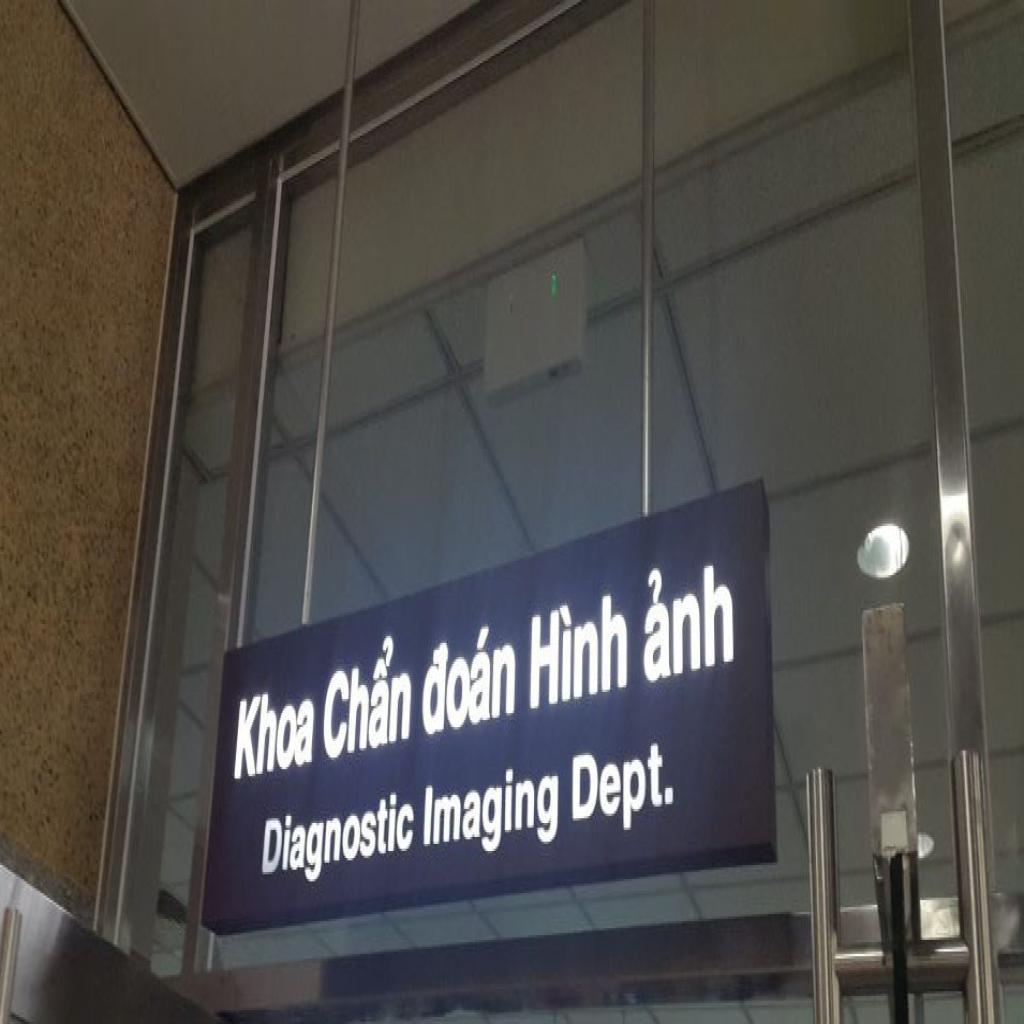text: (258, 786, 416, 893), (421, 758, 561, 865), (643, 549, 737, 690), (322, 626, 416, 764), (529, 587, 628, 713), (420, 615, 518, 741), (233, 680, 317, 786)
